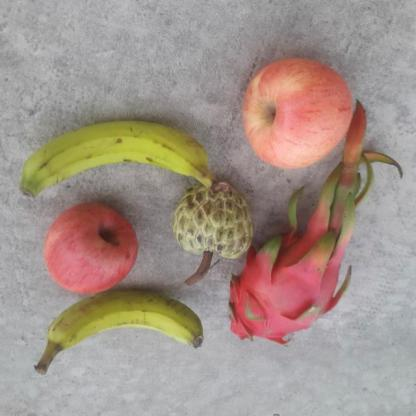annona: (172, 178, 254, 287)
apple: (242, 49, 356, 169), (41, 200, 140, 297)
banana: (17, 120, 229, 200), (36, 287, 206, 376)
pitaya: (228, 222, 350, 344)
